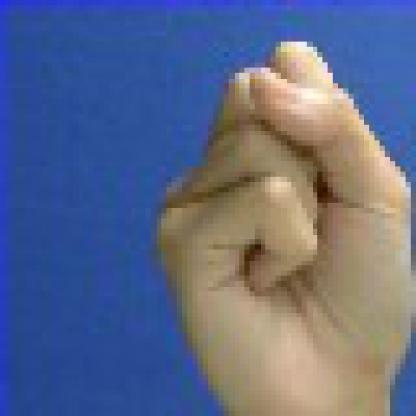zero: (78, 10, 411, 411)
